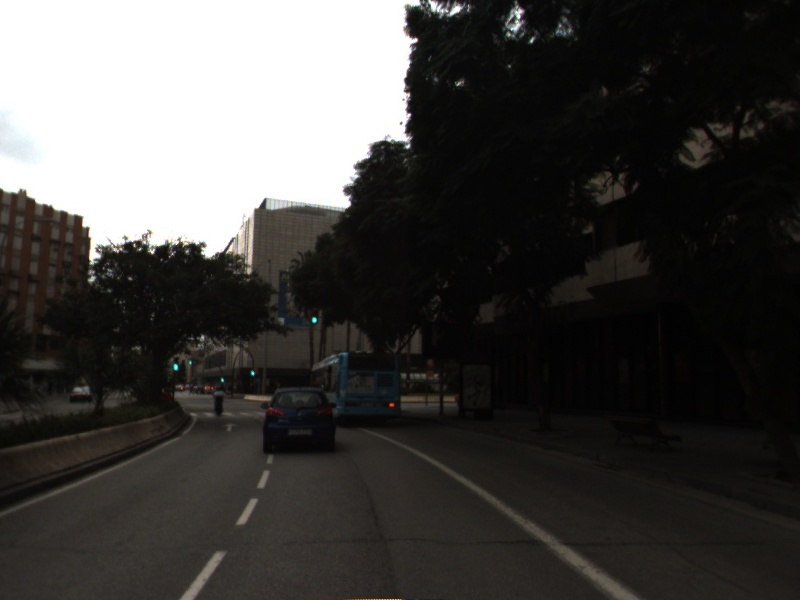STRAIGHT: (221, 420, 241, 433)
